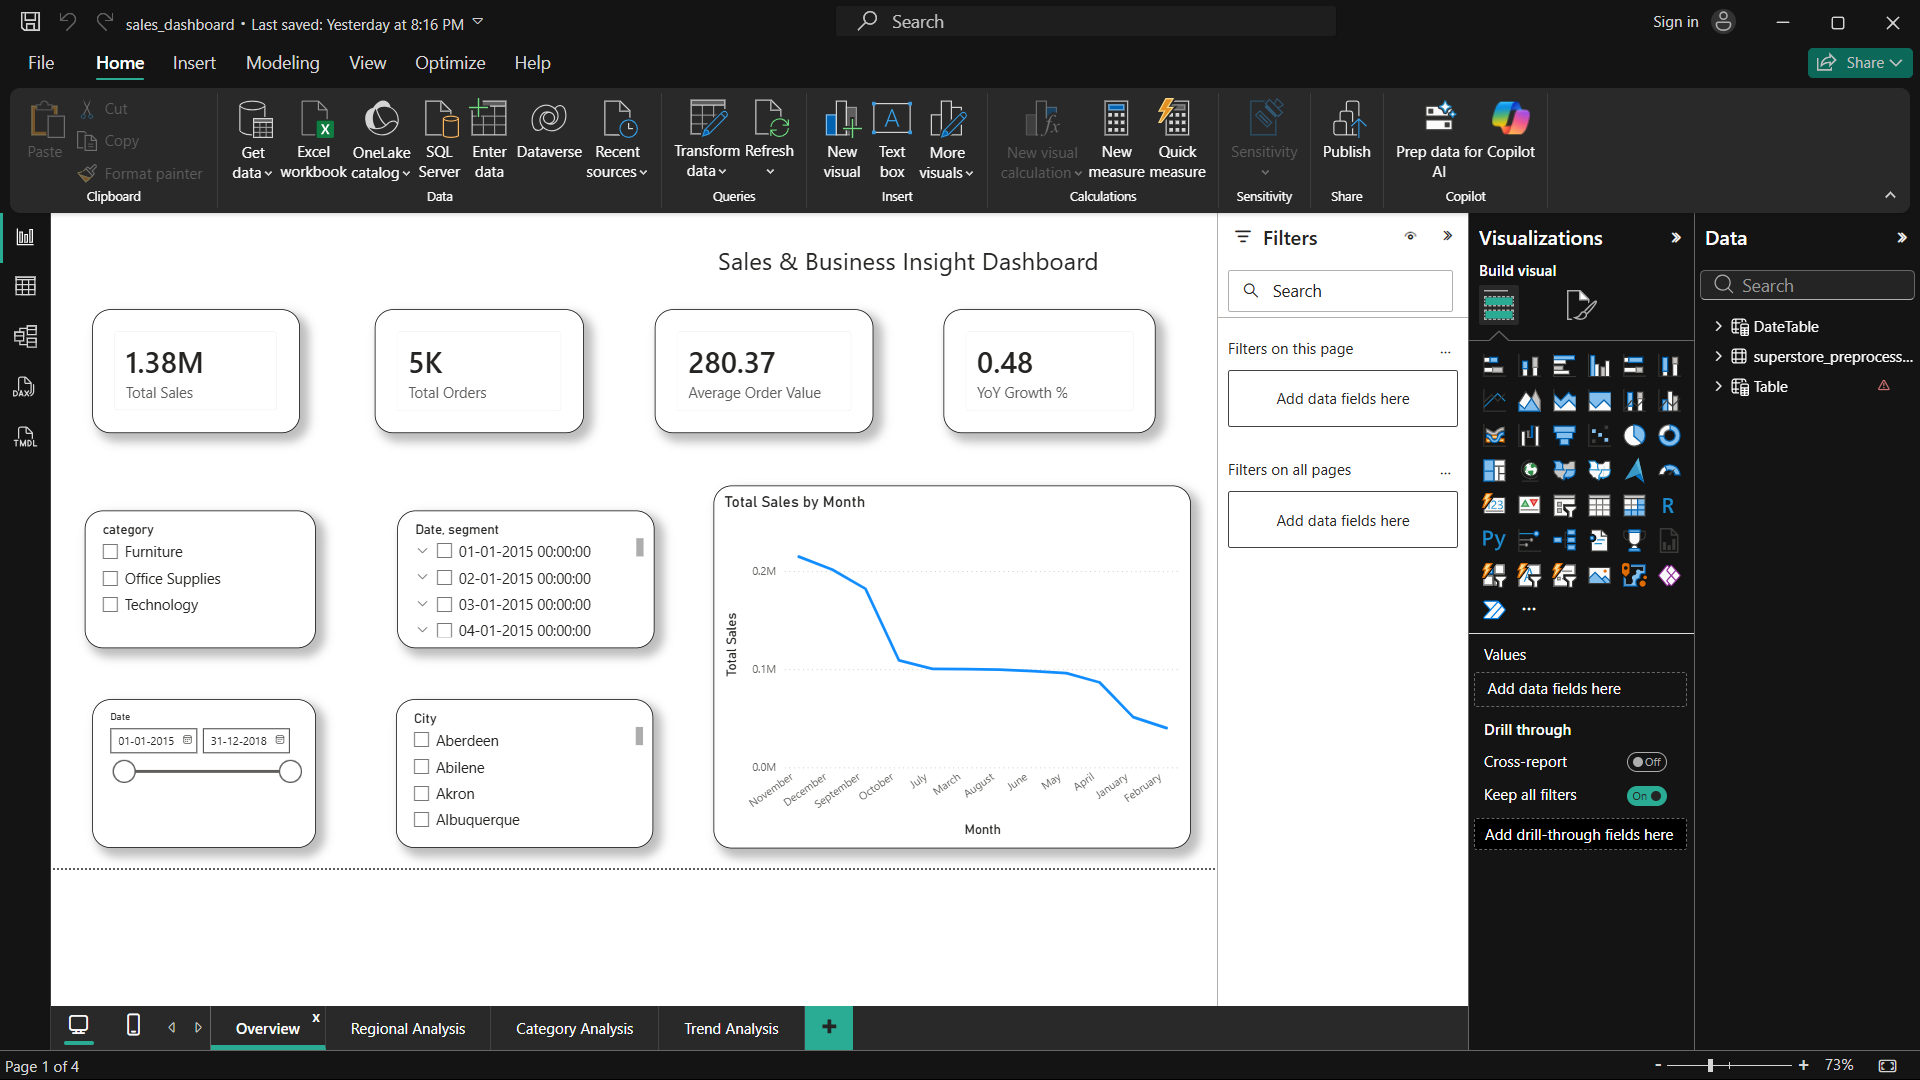

This screenshot's page, from the dashboard's own definition file:
{"tool":"powerbi","page":{"name":"Overview","canvas":[1280,720],"ordinal":0},"visuals":[{"type":"cardVisual","fields":{"Data":["DateTable.Average Order Value"]},"box":[662.1,105.5,240,136.2],"z":0},{"type":"cardVisual","fields":{"Data":["DateTable.Total Sales"]},"box":[45.3,105.7,227.8,135.8],"z":1000},{"type":"cardVisual","fields":{"Data":["DateTable.Total Orders"]},"box":[355.7,105.5,229.8,136.2],"z":2000},{"type":"cardVisual","fields":{"Data":["DateTable.YoY Growth %"]},"box":[980.4,105.5,233.2,136.2],"z":3000},{"type":"lineChart","fields":{"Category":["DateTable.Month"],"Y":["DateTable.Total Sales"]},"box":[726.8,299.6,524.3,398.3],"z":4000},{"type":"slicer","fields":{"Values":["superstore_preprocessed.category"]},"box":[37,326.6,253.9,150.9],"z":5000},{"type":"slicer","fields":{"Values":["DateTable.Date","superstore_preprocessed.segment"]},"box":[379.6,326.8,282.6,151.5],"z":6000},{"type":"slicer","fields":{"Values":["DateTable.Date"]},"box":[45.3,533.8,245.6,163.3],"z":7000},{"type":"slicer","fields":{"Values":["superstore_preprocessed.city"]},"box":[378.7,533.8,282.7,163.3],"z":8000},{"type":"textbox","box":[726.8,28.9,486.8,61.3],"z":9000}]}

Visuals, with their boxes on the page's 1280x720 design canvas (x1, y1, x2, y2). These are canvas units, not pixel positions in the 1920x1080 screenshot, which may show the page scaled, cropped or inside an application window:
cardVisual - DateTable.Average Order Value: x1=662, y1=106, x2=902, y2=242
cardVisual - DateTable.Total Sales: x1=45, y1=106, x2=273, y2=242
cardVisual - DateTable.Total Orders: x1=356, y1=106, x2=586, y2=242
cardVisual - DateTable.YoY Growth %: x1=980, y1=106, x2=1214, y2=242
lineChart - DateTable.Month x DateTable.Total Sales: x1=727, y1=300, x2=1251, y2=698
slicer - superstore_preprocessed.category: x1=37, y1=327, x2=291, y2=478
slicer - DateTable.Date x superstore_preprocessed.segment: x1=380, y1=327, x2=662, y2=478
slicer - DateTable.Date: x1=45, y1=534, x2=291, y2=697
slicer - superstore_preprocessed.city: x1=379, y1=534, x2=661, y2=697
textbox: x1=727, y1=29, x2=1214, y2=90
